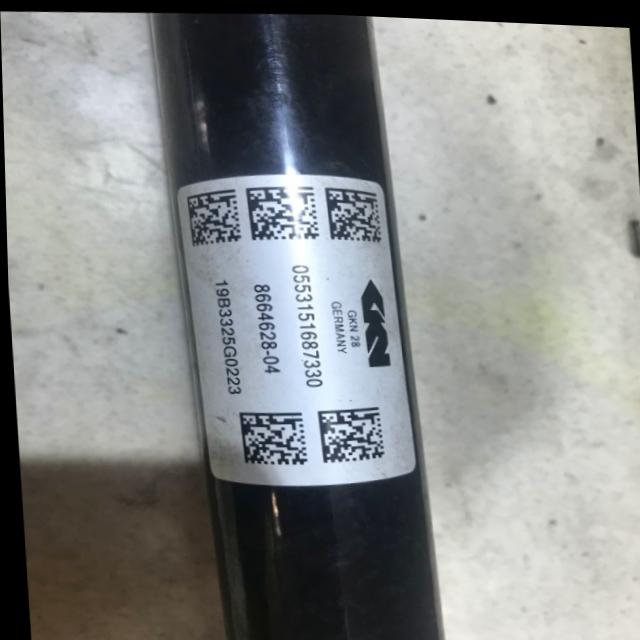datamatrix: (244, 182, 318, 241), (315, 402, 382, 462), (236, 408, 305, 464), (185, 186, 241, 247), (323, 184, 380, 242)
